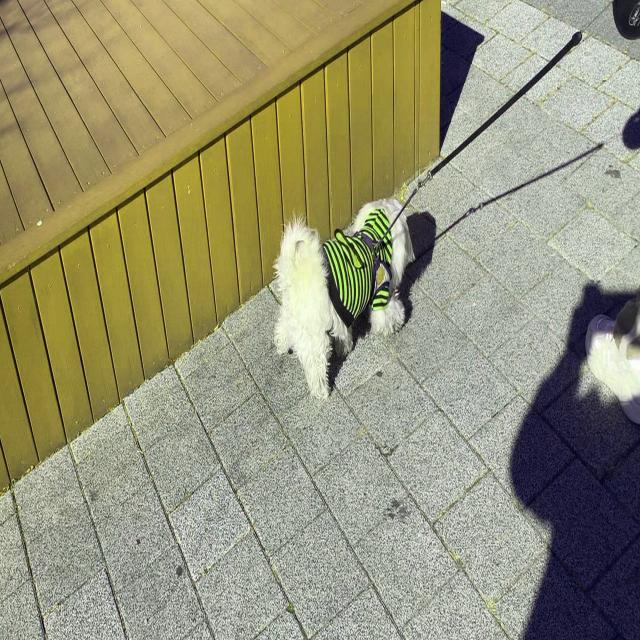Dog: (272, 198, 415, 399)
